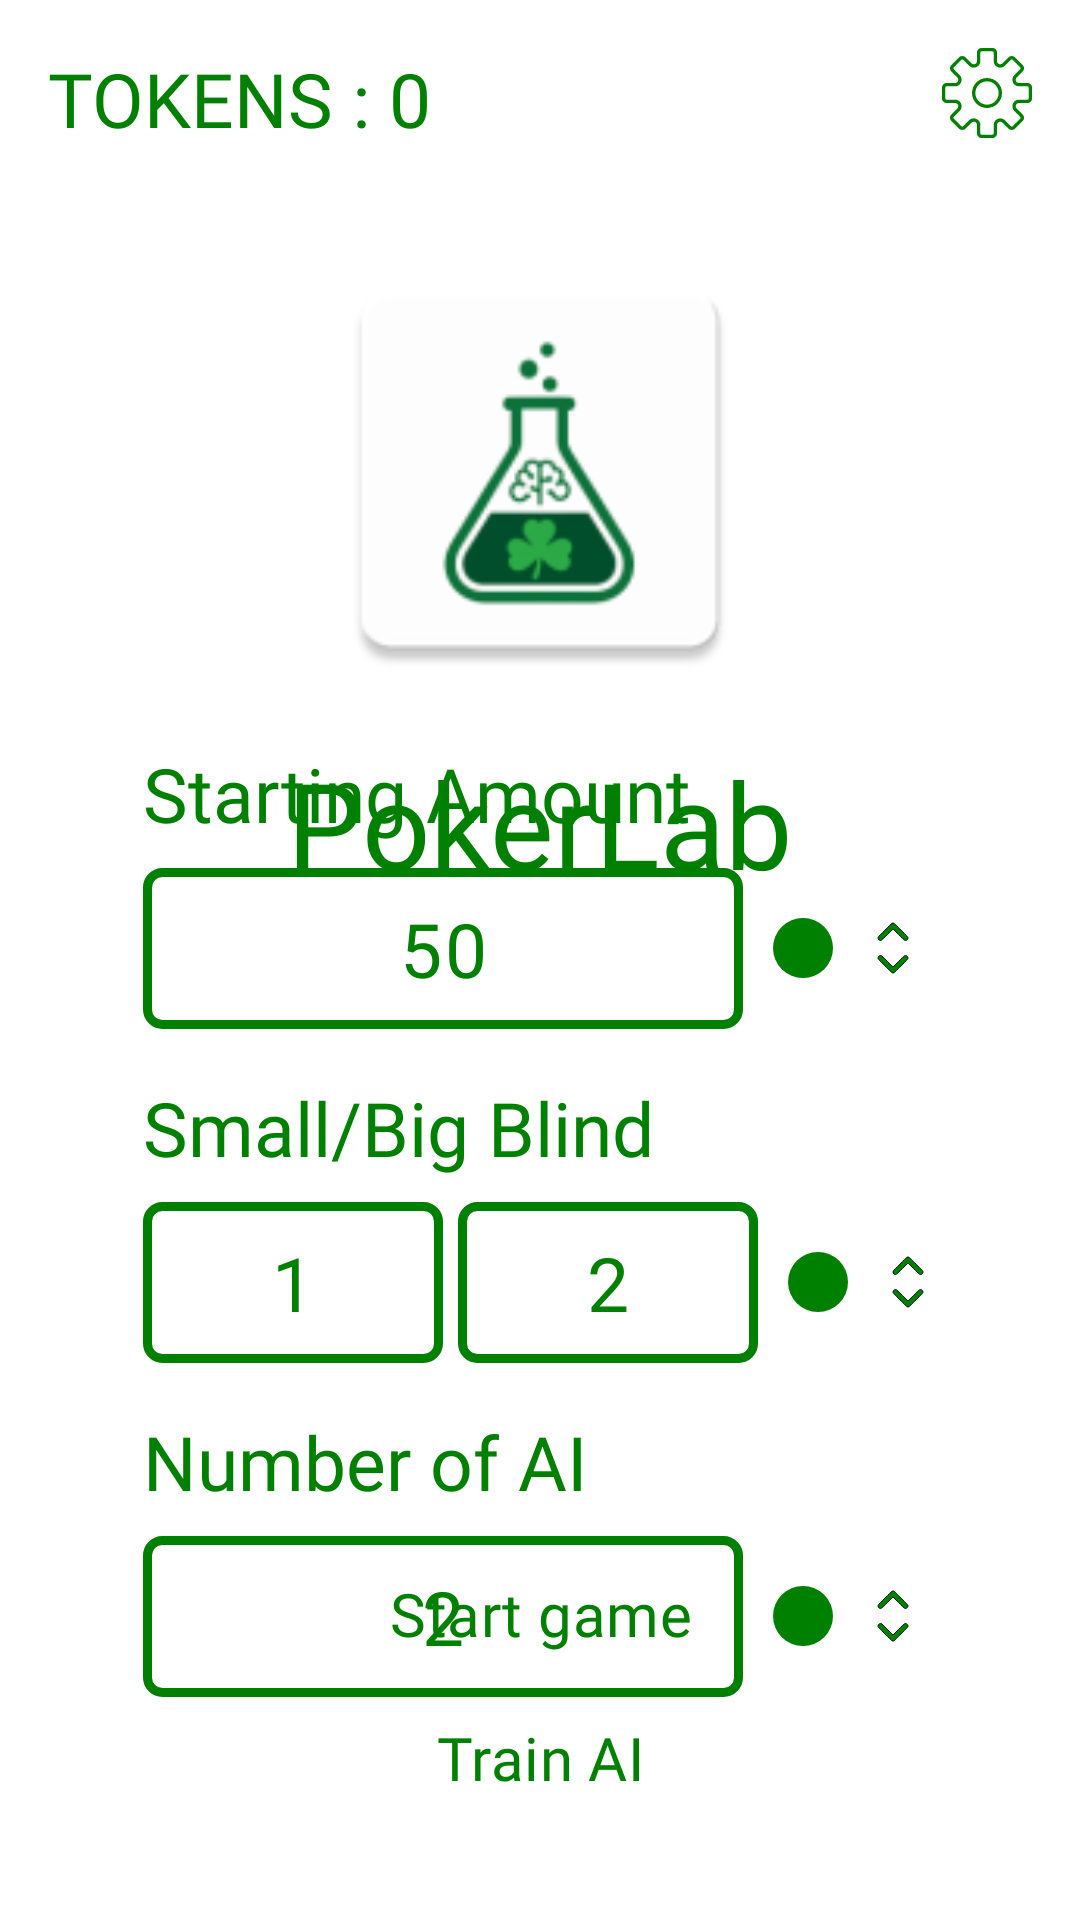

Screen size 1080px x 1920px. Icon name, then its box in pixels as (x1=x1, y1=y1, x2=x2, y2=y2):
arrowupdown: (x1=877, y1=922, x2=909, y2=974), (x1=892, y1=1256, x2=924, y2=1308), (x1=877, y1=1590, x2=909, y2=1642)
settings: (x1=942, y1=48, x2=1032, y2=138)
